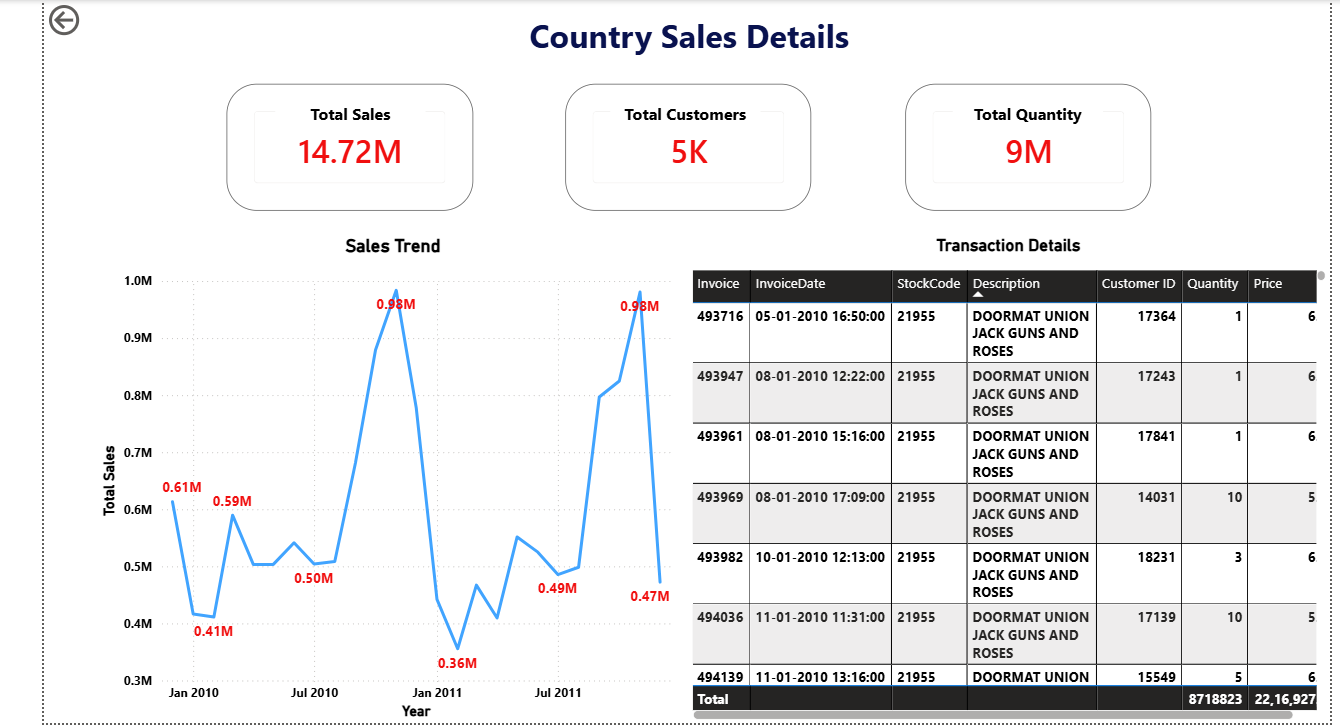

What the dashboard file says about the page in this screenshot:
{"tool":"powerbi","page":{"name":"Country Details","canvas":[1280,720],"ordinal":1},"visuals":[{"type":"actionButton","box":[0,0,100,40],"z":0},{"type":"textbox","box":[426.8,8.2,430.9,63.1],"z":1000},{"type":"cardVisual","title":"Total Sales","fields":{"Data":["online_retail_II.Total_Sales"]},"box":[181.1,83.7,245.6,126.2],"z":2000},{"type":"cardVisual","title":"Total Customers","fields":{"Data":["online_retail_II.Total Customers"]},"box":[518.7,83.7,245,126],"z":3000},{"type":"cardVisual","title":"Total Quantity","fields":{"Data":["online_retail_II.Total Quantity"]},"box":[857.6,83.7,245,126],"z":4000},{"type":"lineChart","title":"Sales Trend","fields":{"Y":["online_retail_II.Total_Sales"],"Category":["online_retail_II.InvoiceDate.Variation.Date Hierarchy.Year","online_retail_II.InvoiceDate.Variation.Date Hierarchy.Month"]},"box":[52.1,233.3,590.1,487.1],"z":5000},{"type":"tableEx","title":"Transaction Details","fields":{"Values":["online_retail_II.Invoice","online_retail_II.InvoiceDate","online_retail_II.StockCode","online_retail_II.Description","online_retail_II.Customer ID","Sum(online_retail_II.Quantity)","Sum(online_retail_II.Price)"]},"box":[639.5,233.3,640.8,487.1],"z":6000},{"type":"textbox","box":[230.5,97.4,149.6,34.3],"z":7000},{"type":"textbox","box":[564,97.4,149.6,34.3],"z":8000},{"type":"textbox","box":[904.3,97.4,149.6,34.3],"z":9000}]}

Visuals, with their boxes on the page's 1280x720 design canvas (x1, y1, x2, y2). These are canvas units, not pixel positions in the 1340x728 screenshot, which may show the page scaled, cropped or inside an application window:
actionButton: <box>0,0,100,40</box>
textbox: <box>427,8,858,71</box>
"Total Sales" cardVisual: <box>181,84,427,210</box>
"Total Customers" cardVisual: <box>519,84,764,210</box>
"Total Quantity" cardVisual: <box>858,84,1103,210</box>
"Sales Trend" lineChart: <box>52,233,642,720</box>
"Transaction Details" tableEx: <box>640,233,1280,720</box>
textbox: <box>230,97,380,132</box>
textbox: <box>564,97,714,132</box>
textbox: <box>904,97,1054,132</box>
